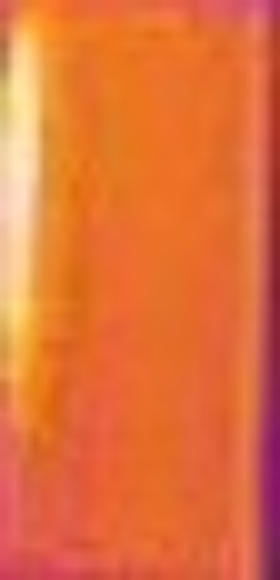Diode: (1, 13, 51, 409)
